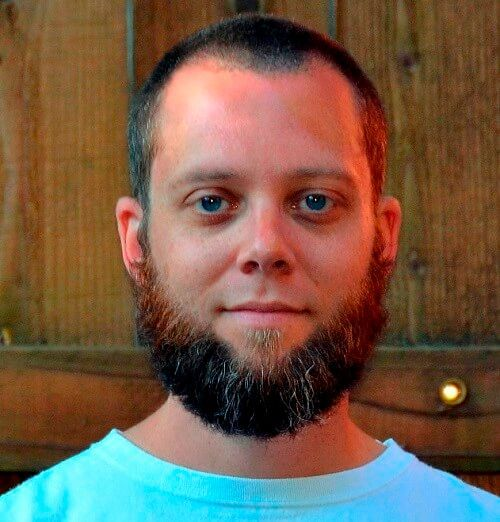beard: (130, 255, 395, 443)
